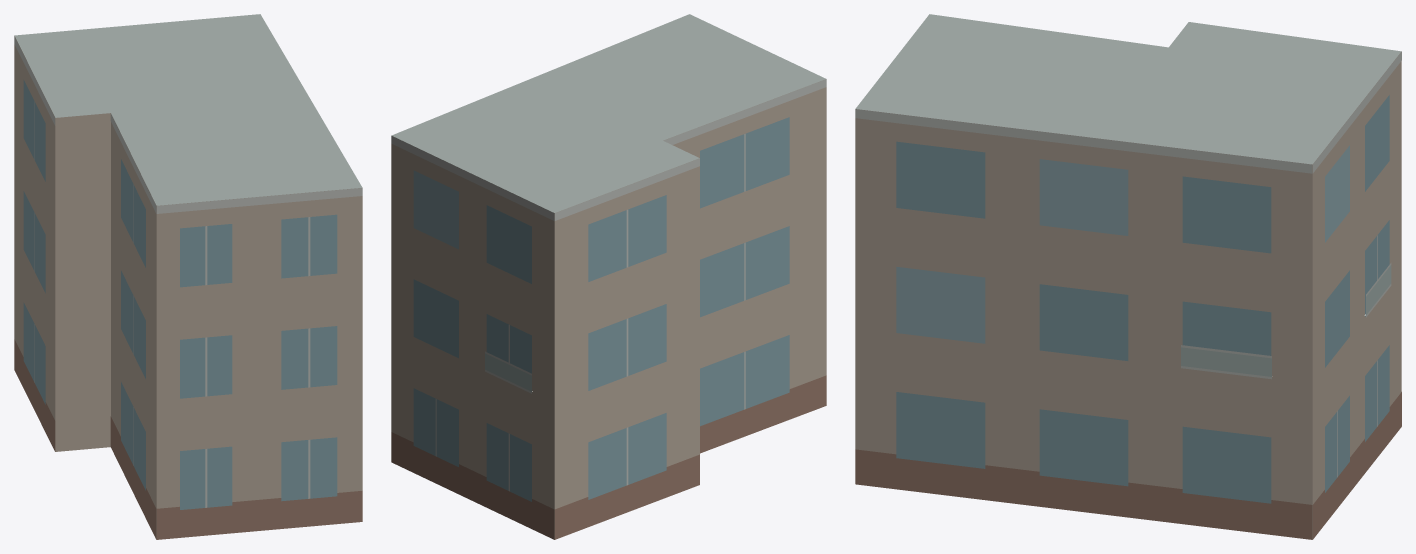
The model's file is survey-upis-32805968.glb.
3 views of the same model, side by side, from view 1: azimuth 30°, elevation 25°; view 2: azimuth 150°, elevation 25°; view 3: azimuth 270°, elevation 25° (orthographic). The views are drawn at different scales.
Parts seen in each view (by area): view 1: survey-upis-32805968.tmp; view 2: survey-upis-32805968.tmp; view 3: survey-upis-32805968.tmp.
Part boxes in pixels (x1,y1,x2,y2): survey-upis-32805968.tmp: (14,14,362,539); survey-upis-32805968.tmp: (391,14,826,539); survey-upis-32805968.tmp: (855,14,1401,539).
Size of the model in its own units: 8.52 by 9.9 by 13.07.
